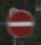No entry: (5, 6, 36, 40)
